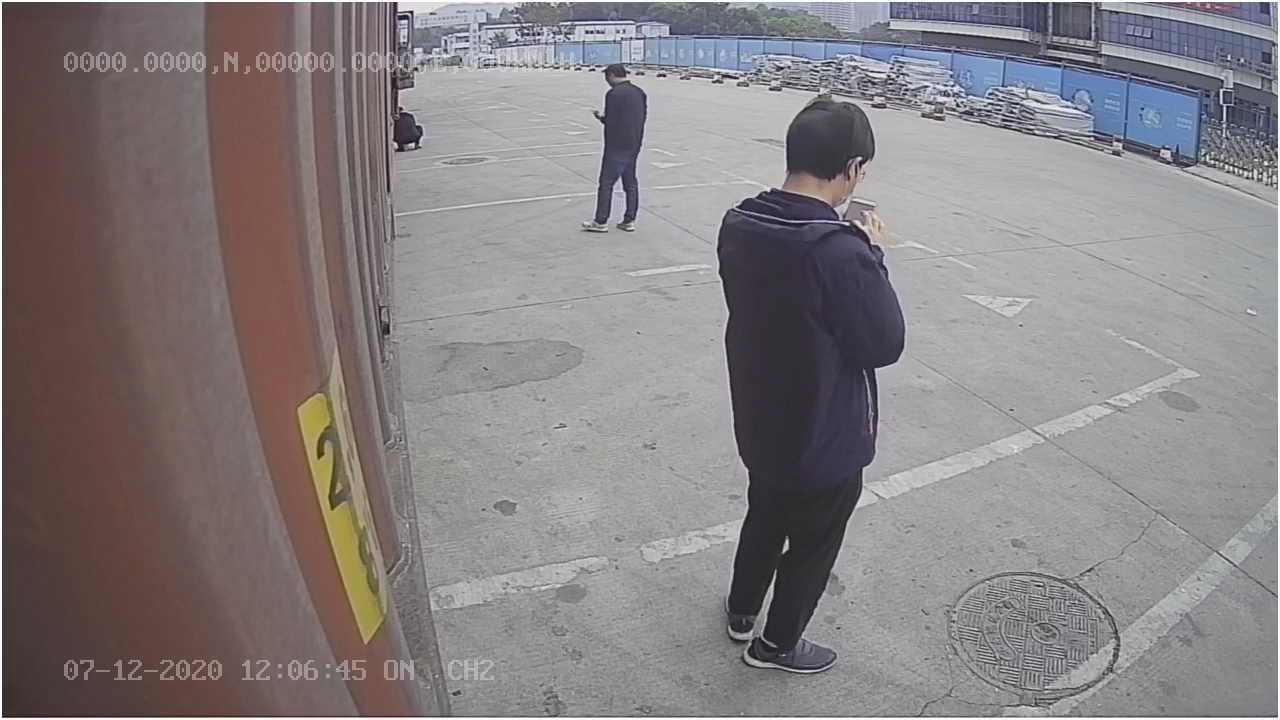person: (709, 97, 908, 674)
